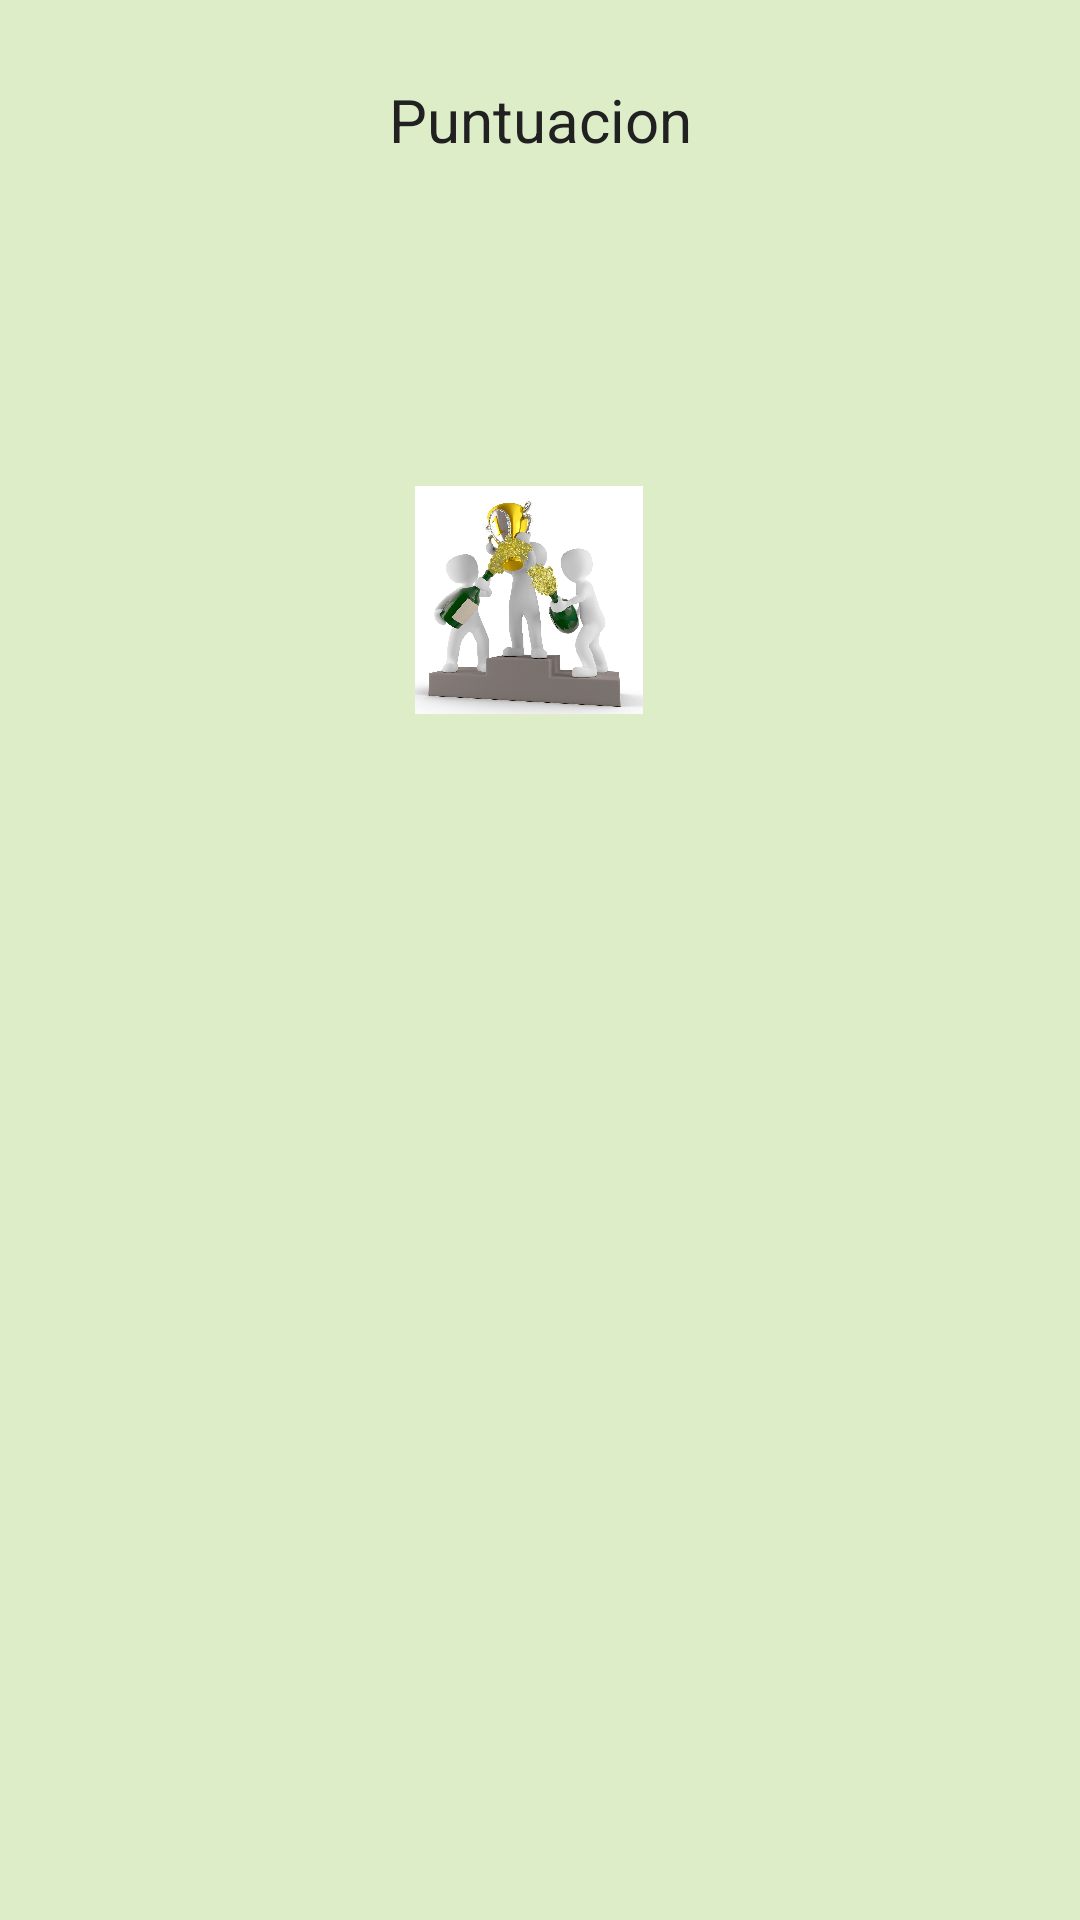

Locate icon controls on the screen. Image size 1080px x 1920px, boxes as [left=x1, top=y1, right=x2, bottom=y2].
score: [left=415, top=486, right=643, bottom=714]
